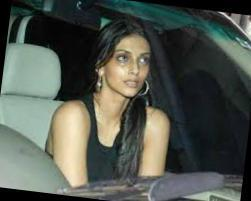Drunk: (115, 38, 150, 97)
